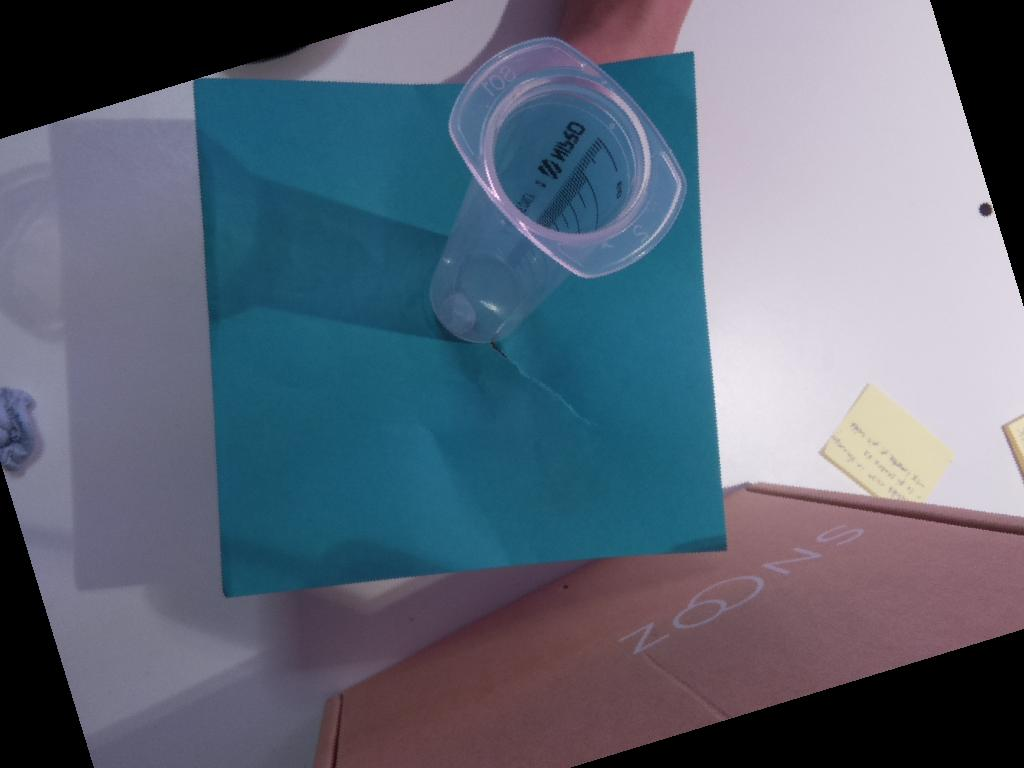clean: (446, 36, 690, 285)
